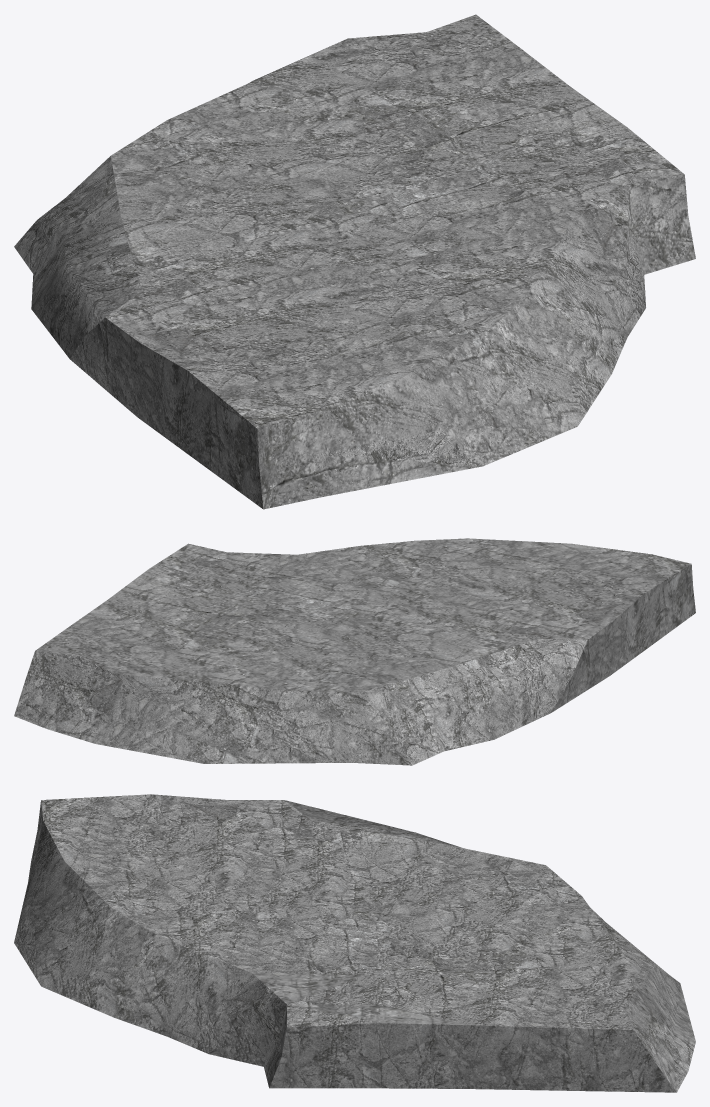
File: materials_3_road_14.fbx
3 renders of one model, top to bottom at view 1: azimuth 30°, elevation 25°; view 2: azimuth 150°, elevation 25°; view 3: azimuth 270°, elevation 25°, orthographic. The views are drawn at different scales.
Parts seen in each view (by area): view 1: materials_3_road_14; view 2: materials_3_road_14; view 3: materials_3_road_14.
Boxes of the visible parts, bbox=[...] form: materials_3_road_14: bbox=[14, 14, 695, 509]; materials_3_road_14: bbox=[14, 538, 695, 765]; materials_3_road_14: bbox=[14, 794, 695, 1092].
Bounding box in the file's own units: 238 × 32.09 × 296.
